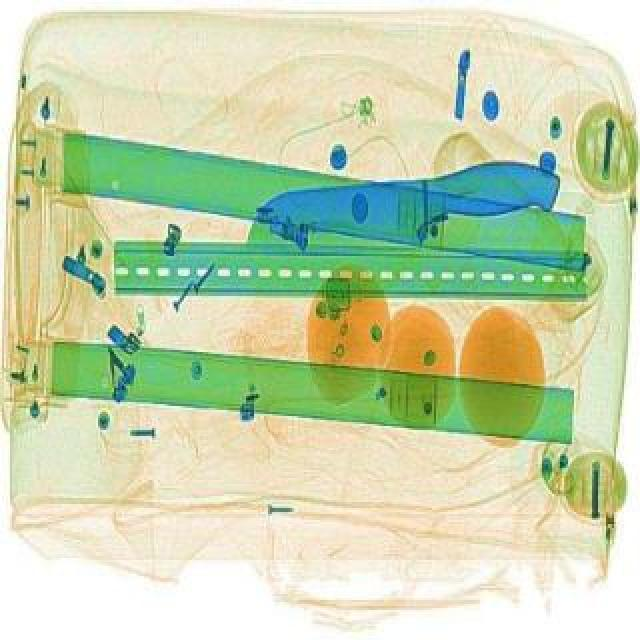knife: (240, 150, 566, 270)
